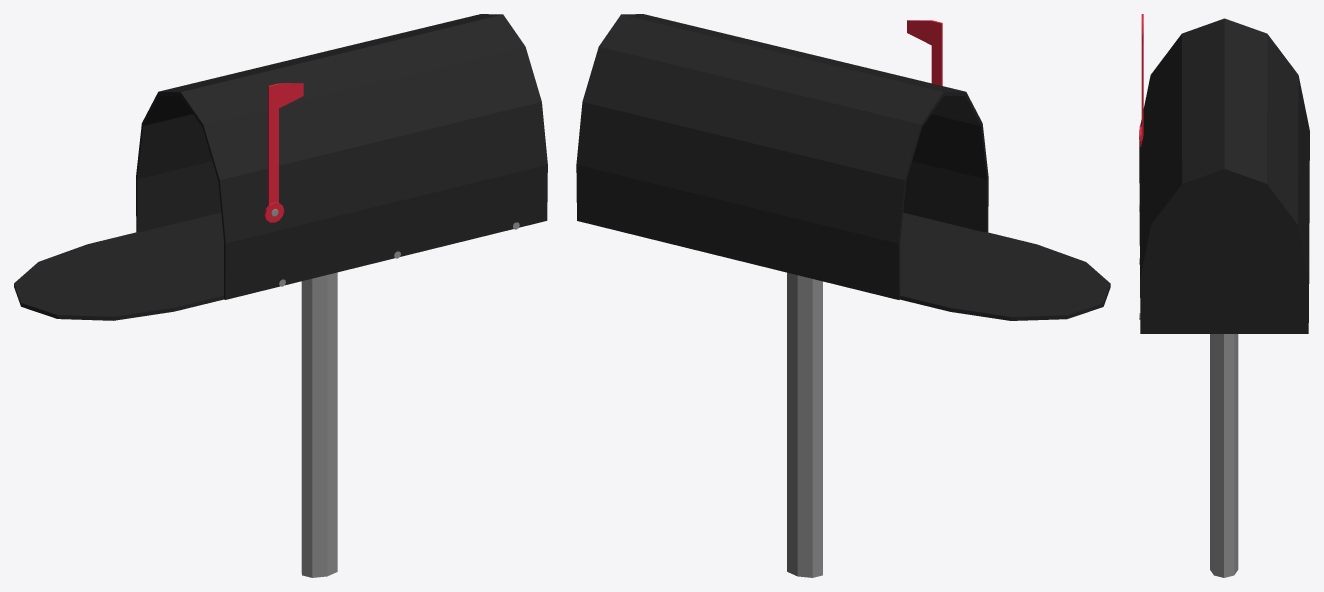
Rendered from Letter Box.fbx.
3 renders of one model, left to right at view 1: azimuth 30°, elevation 25°; view 2: azimuth 150°, elevation 25°; view 3: azimuth 270°, elevation 25°, orthographic. The views are drawn at different scales.
Parts seen in each view (by area): view 1: Post Box; view 2: Post Box; view 3: Post Box.
Boxes of the visible parts, x1,y1,x2,y2 form: Post Box: (14,14,547,577); Post Box: (576,14,1110,577); Post Box: (1139,14,1309,577).
Size of the model in its own units: 508 by 542 by 164.
